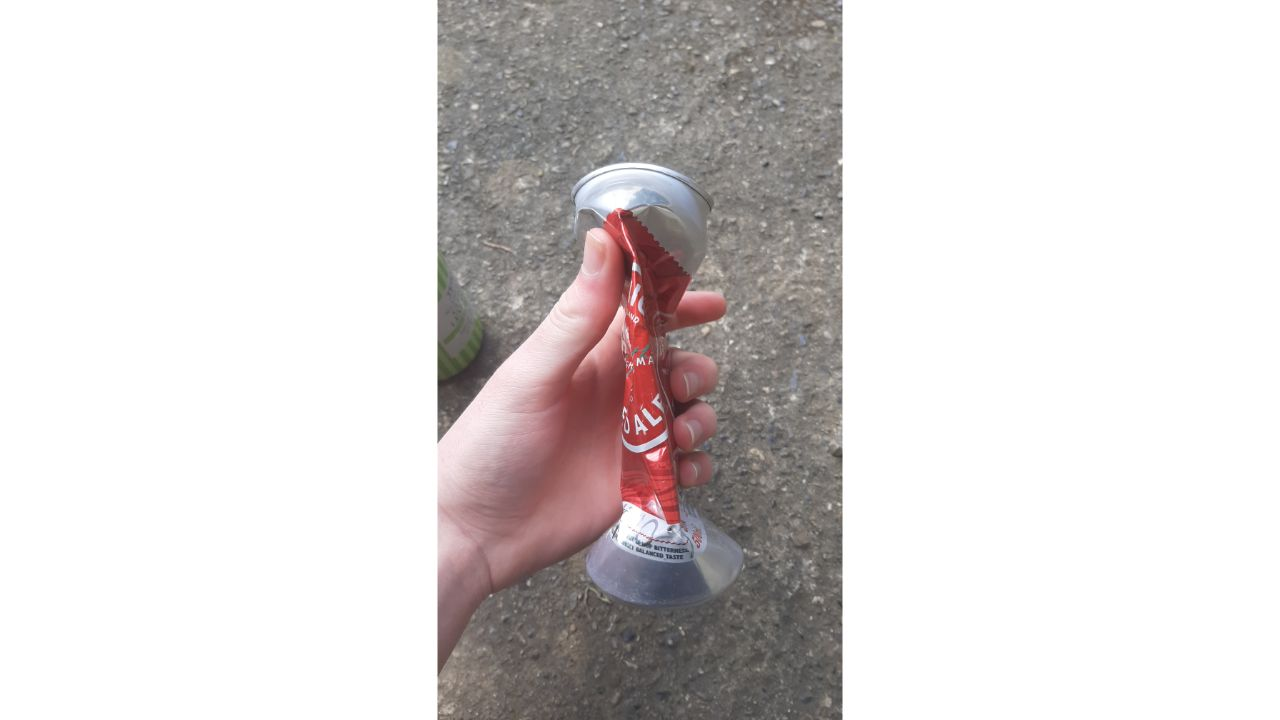Can: (563, 154, 754, 621)
